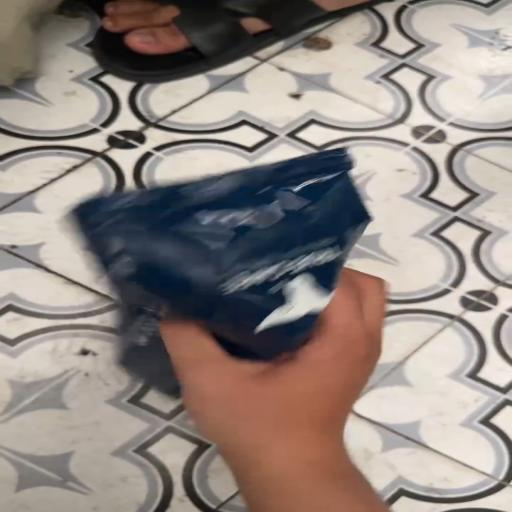cafe_hat: (72, 148, 370, 395)
